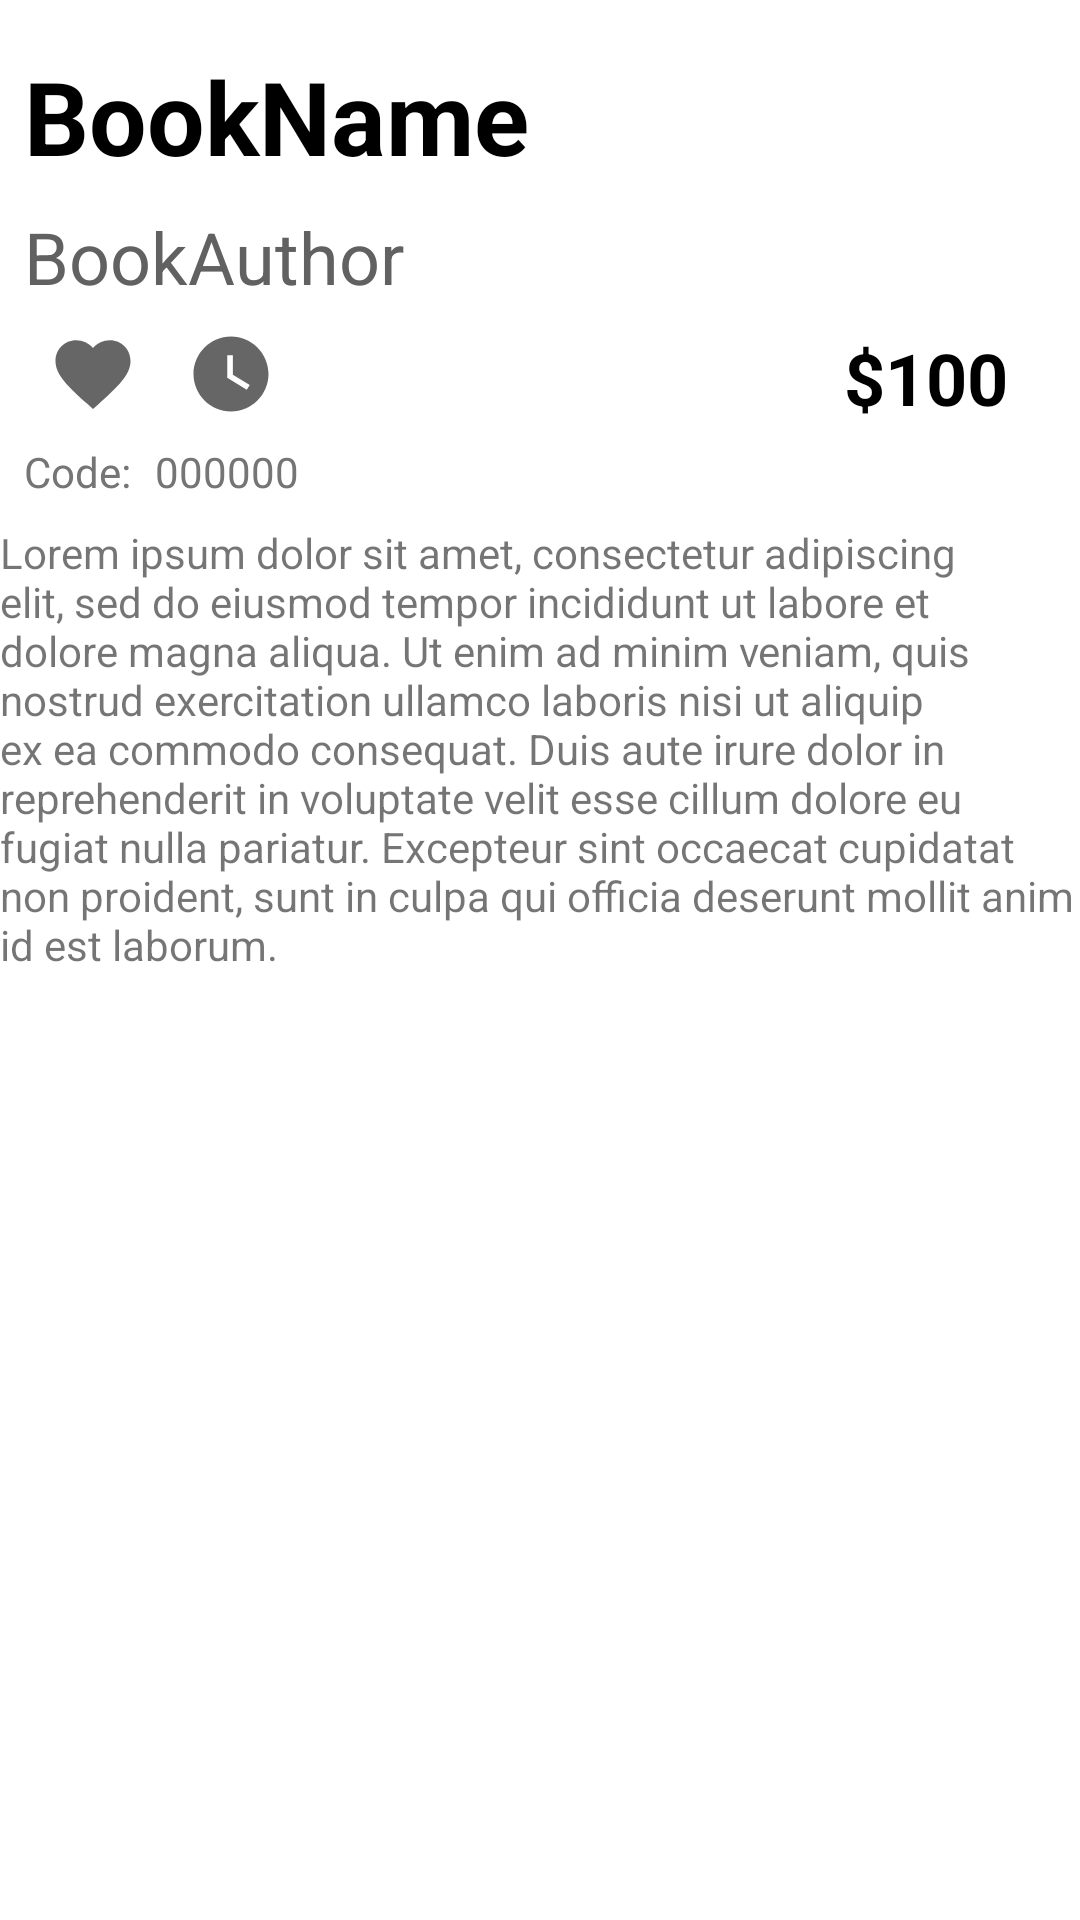

Screen size 1080 × 1920. Icon name, then its box in pixels as (x1, y1, x2, y2):
Buy later: (193, 336, 269, 412)
Favourite: (55, 340, 131, 409)
